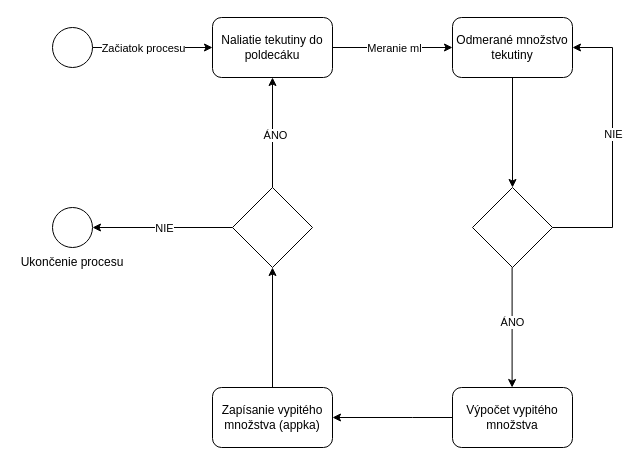
The diagram is 639 pixels wide and 465 high, and some of its shapes have lost their labels. Each missing label, with the centre of its shape:
Pokračuje sa v pití?: (x=272, y=227)
Zmenilo sa množstvo tekutiny?: (x=512, y=227)
